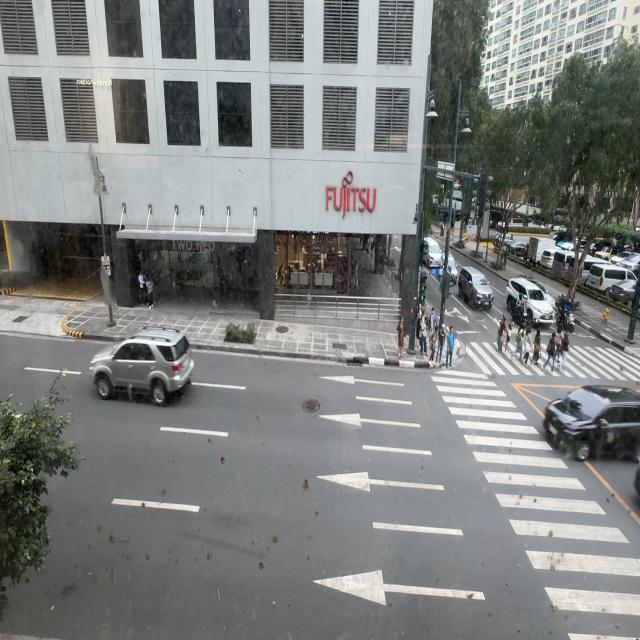crossing: (543, 333, 556, 373), (559, 331, 571, 373), (531, 329, 542, 367), (496, 314, 506, 353), (524, 327, 534, 364), (514, 327, 524, 362)
waiting: (435, 323, 446, 365), (446, 326, 455, 369), (428, 325, 438, 363), (419, 316, 428, 356), (397, 317, 405, 360), (428, 307, 438, 335), (416, 302, 423, 336)
